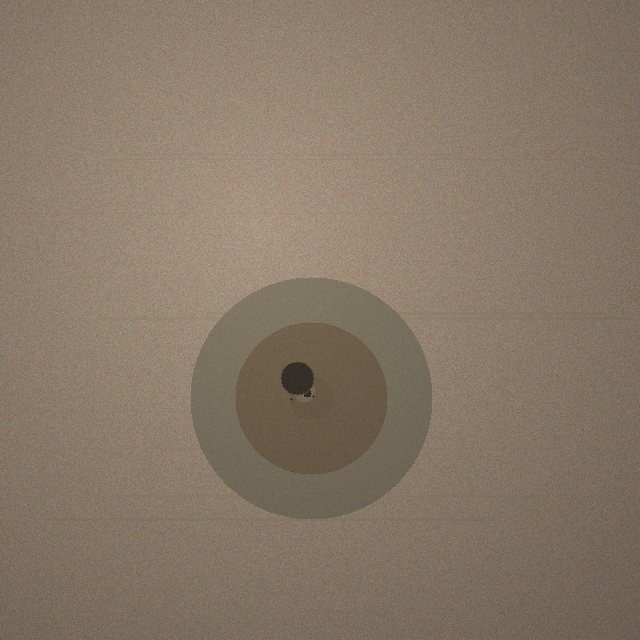shrinkage: (190, 277, 432, 519)
